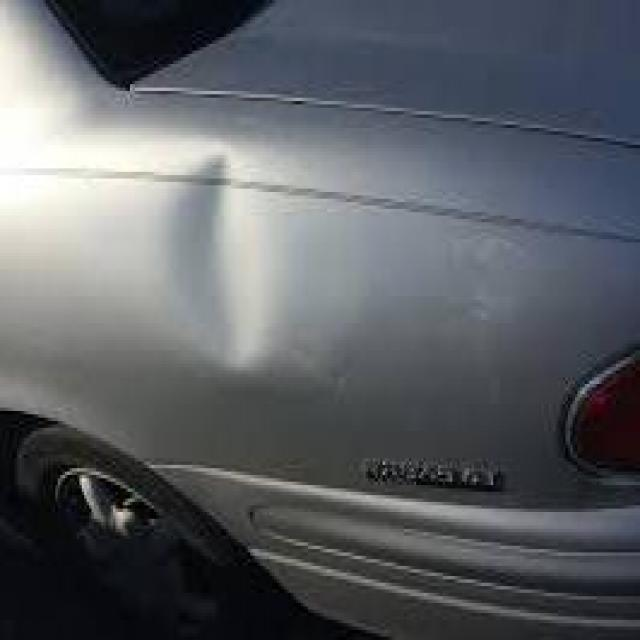dent: (159, 132, 284, 398)
